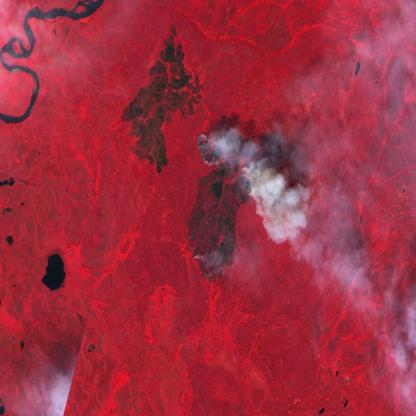fire: (193, 124, 264, 215)
